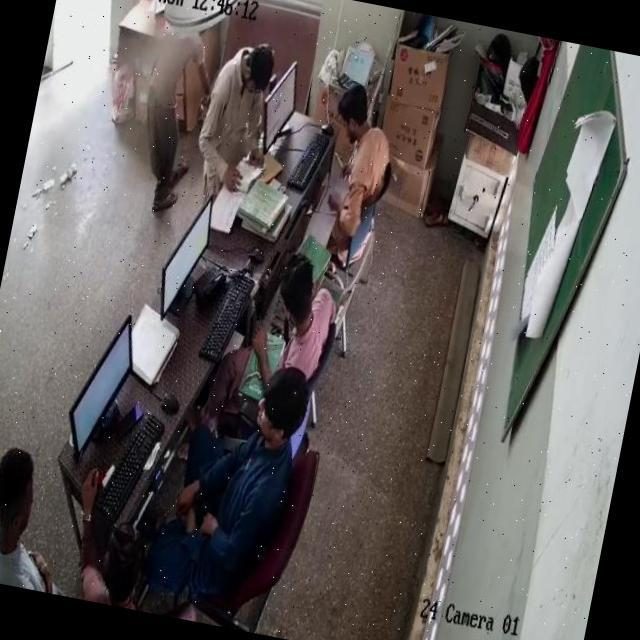person: (152, 346, 318, 602), (58, 493, 175, 614), (190, 39, 278, 192), (132, 21, 204, 207), (0, 449, 74, 593), (264, 250, 342, 376), (328, 74, 394, 218)
